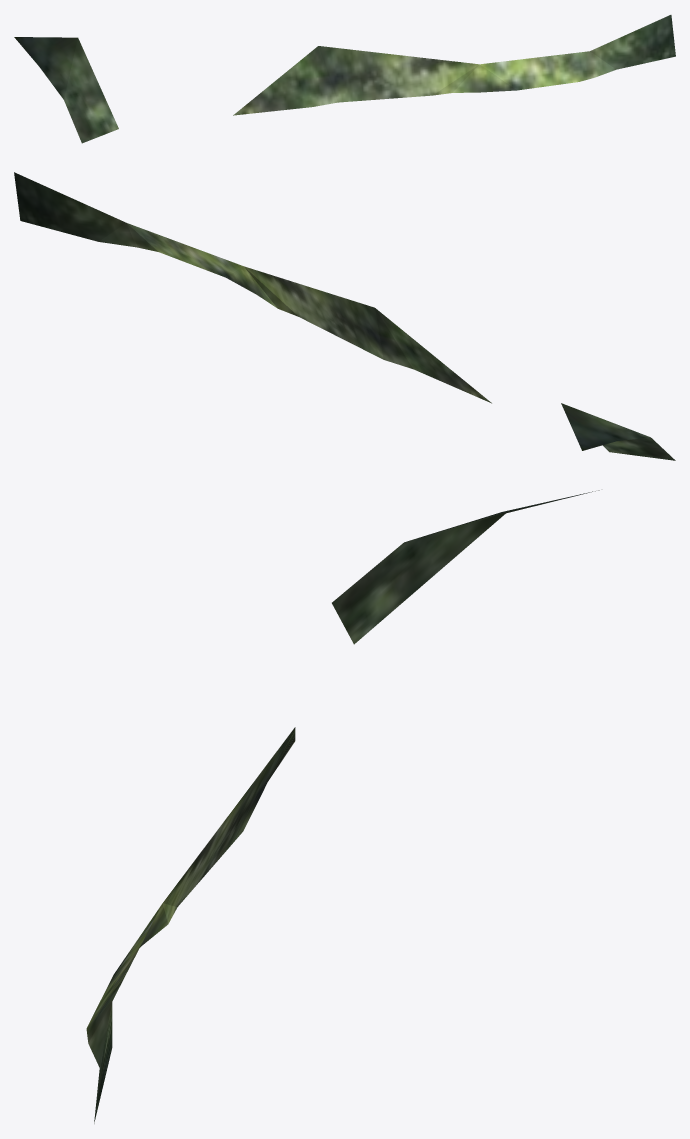
3 views of the same model, one above another, from view 1: azimuth 30°, elevation 25°; view 2: azimuth 150°, elevation 25°; view 3: azimuth 270°, elevation 25° (orthographic). The views are drawn at different scales.
Size of the model in its own units: 26.11 by 3 by 10.93.
Materials: 1 (1 with a texture image).
